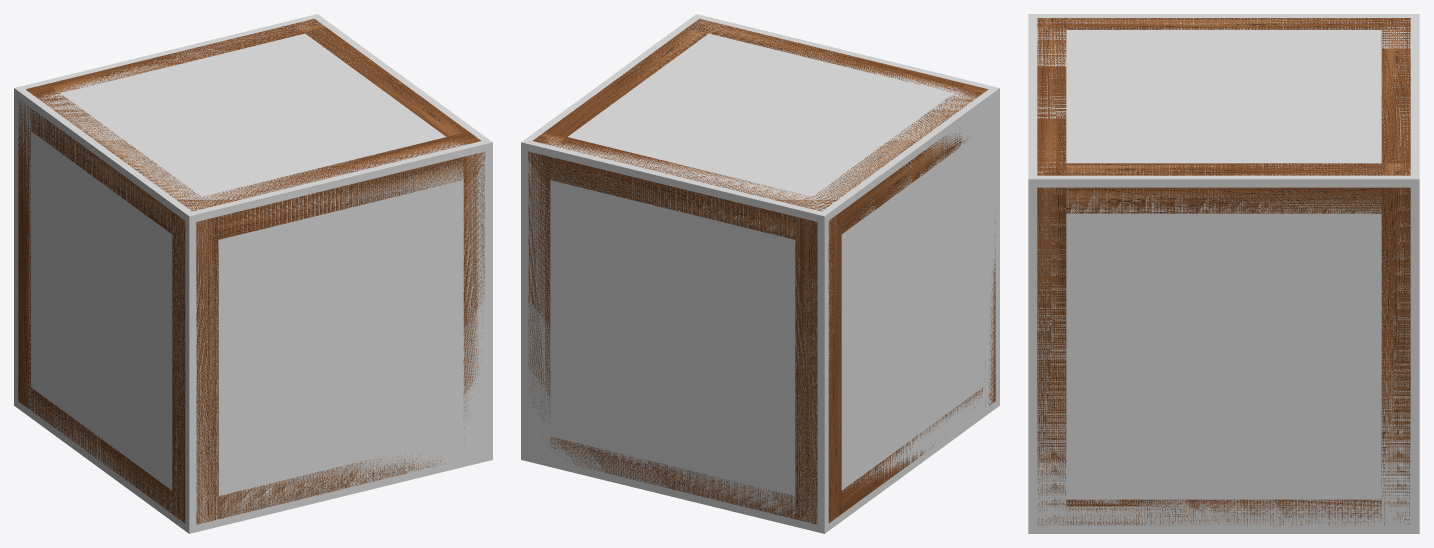
File: SM_Crate_01.fbx
The picture shows the model from 3 angles, left to right: view 1: azimuth 30°, elevation 25°; view 2: azimuth 150°, elevation 25°; view 3: azimuth 270°, elevation 25°; orthographic projection. The views are drawn at different scales.
Visible parts, largest first — view 1: Crate01_Col0, Crate01_Body; view 2: Crate01_Col0, Crate01_Body; view 3: Crate01_Col0, Crate01_Body.
Part boxes in pixels (x1,y1,x2,y2): Crate01_Col0: (14,14,492,533); Crate01_Body: (18,19,485,524); Crate01_Col0: (521,14,999,533); Crate01_Body: (528,19,995,524); Crate01_Col0: (1028,14,1419,533); Crate01_Body: (1037,18,1410,525).
Bounding box in the file's own units: 3 × 3 × 3.
